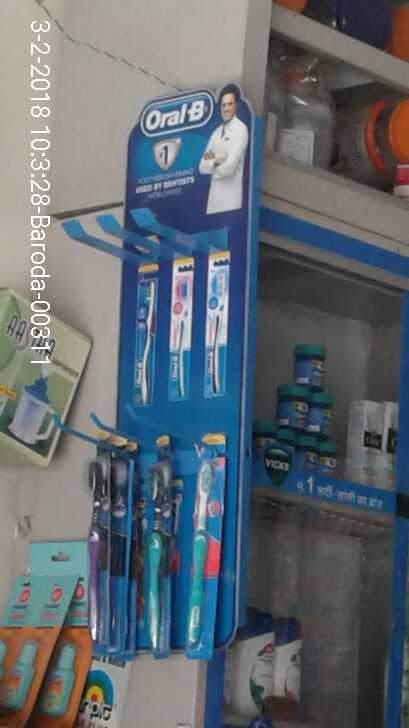pharmacy: (265, 327, 338, 474), (79, 447, 125, 654), (140, 448, 173, 653), (185, 448, 219, 645)
